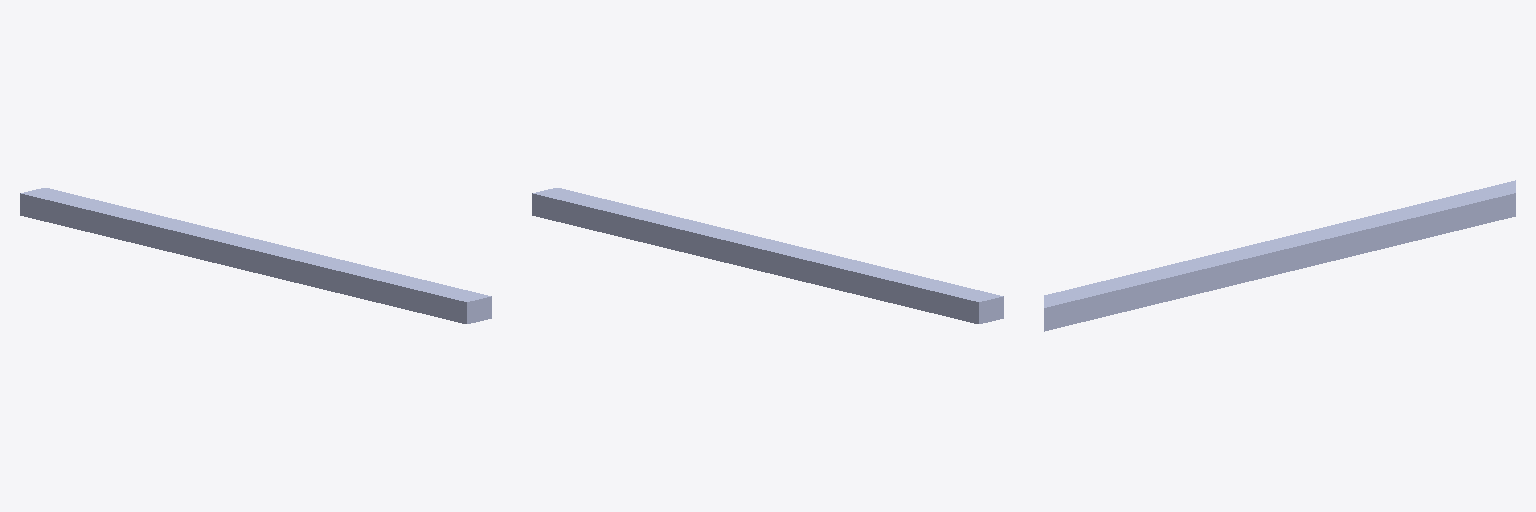
URDF robot description (road5):
<?xml version="1.0" encoding="utf-8"?>
<!-- This URDF was automatically created by SolidWorks to URDF Exporter! Originally created by [author] ([email redacted]) 
     Commit Version: 1.6.0-4-g7f85cfe  Build Version: 1.6.7995.38578
     For more information, please see http://wiki.ros.org/sw_urdf_exporter -->
<robot
  name="road5">
  <link
    name="base_link">
    <inertial>
      <origin
        xyz="0.386547005383793 0.01 0.381865334794732"
        rpy="0 0 0" />
      <mass
        value="0.168000000000001" />
      <inertia
        ixx="0.0018578"
        ixy="-6.44768118545068E-36"
        ixz="-0.00106936816859303"
        iyy="0.00247706666666669"
        iyz="2.42643584472526E-21"
        izz="0.000630466666666695" />
    </inertial>
    <visual>
      <origin
        xyz="0 0 0"
        rpy="0 0 0" />
      <geometry>
        <mesh
          filename="package://road5/meshes/base_link.STL" />
      </geometry>
      <material
        name="">
        <color
          rgba="0.792156862745098 0.819607843137255 0.933333333333333 1" />
      </material>
    </visual>
    <collision>
      <origin
        xyz="0 0 0"
        rpy="0 0 0" />
      <geometry>
        <mesh
          filename="package://road5/meshes/base_link.STL" />
      </geometry>
    </collision>
  </link>
</robot>

--- Facts derived from the render (not from the file) ---
Views: 3 orthographic renders of the robot side by side, from view 1: azimuth 30°, elevation 25°; view 2: azimuth 210°, elevation 25°; view 3: azimuth 270°, elevation 25°.
Model road5 with 1 links and 0 joints (none), rooted at base_link, posed all joints at 0.
Links seen in each view (by area): view 1: base_link; view 2: base_link; view 3: base_link.
Boxes of the visible links, bbox=[...] form: base_link: bbox=[20, 188, 491, 323]; base_link: bbox=[532, 188, 1003, 323]; base_link: bbox=[1044, 180, 1515, 331].
Size in the robot's own frame: 0.2331 by 0.3637 by 0.02 metres.
1 mesh visuals loaded from 1 distinct referenced files (1 binary STL).